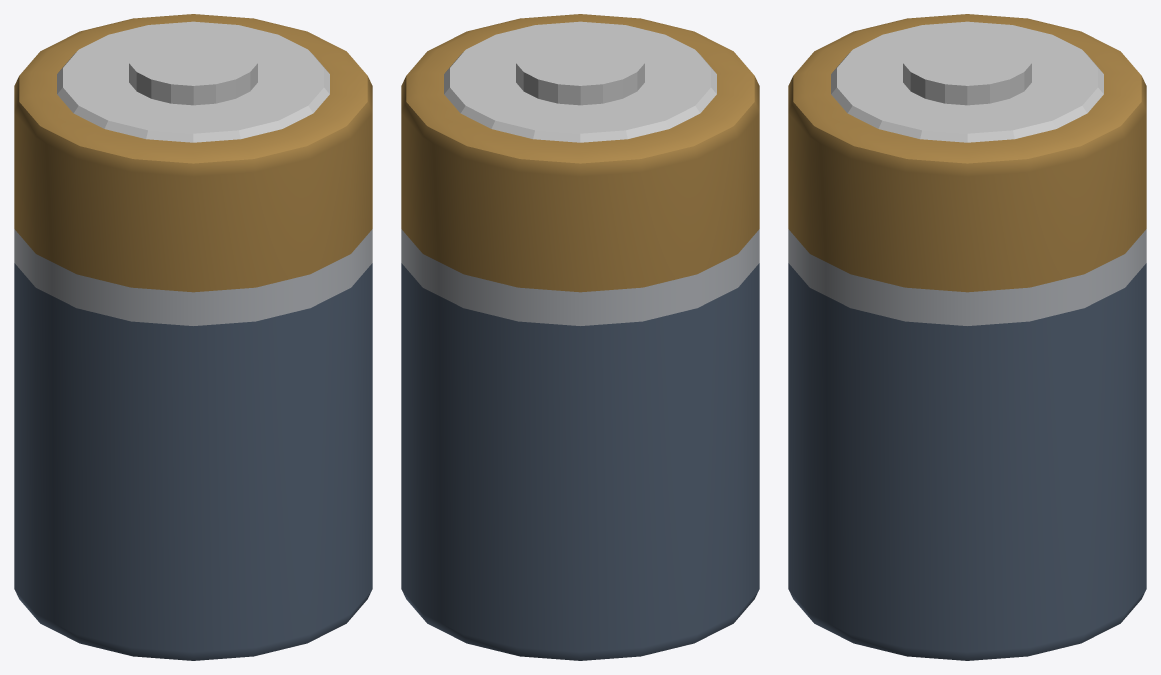
The model's file is Battery.fbx.
3 renders of one model, left to right at view 1: azimuth 30°, elevation 25°; view 2: azimuth 150°, elevation 25°; view 3: azimuth 270°, elevation 25°, orthographic.
Parts seen in each view (by area): view 1: pCylinder1; view 2: pCylinder1; view 3: pCylinder1.
Boxes of the visible parts, bbox=[...] form: pCylinder1: bbox=[14, 14, 372, 660]; pCylinder1: bbox=[401, 14, 759, 660]; pCylinder1: bbox=[788, 14, 1146, 660].
Bounding box in the file's own units: 3.37 × 5.44 × 3.32.
